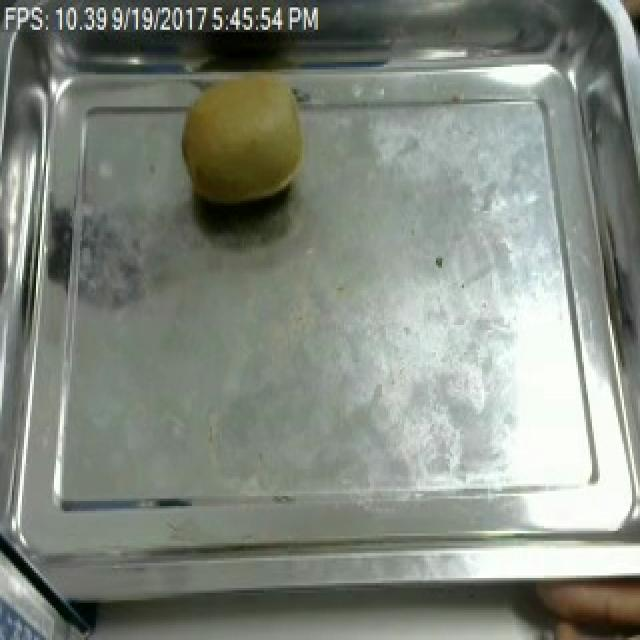Fruit: (176, 60, 316, 214)
